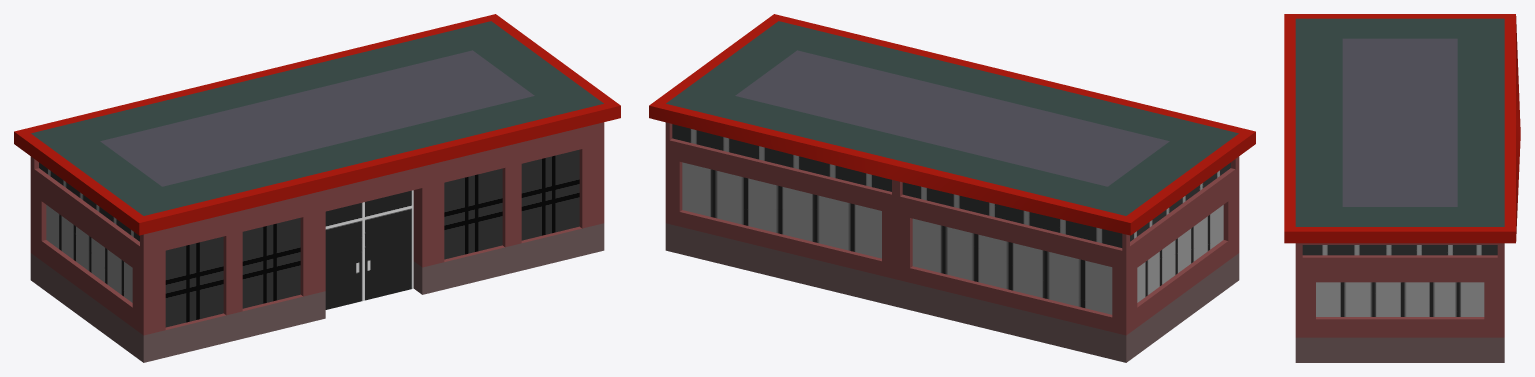
The model's file is building29a.FBX.
3 renders of one model, left to right at view 1: azimuth 30°, elevation 25°; view 2: azimuth 150°, elevation 25°; view 3: azimuth 270°, elevation 25°, orthographic. The views are drawn at different scales.
Parts seen in each view (by area): view 1: building29a; view 2: building29a; view 3: building29a.
Boxes of the visible parts, <box> form: building29a: <box>14,14,620,362</box>; building29a: <box>649,14,1255,362</box>; building29a: <box>1284,14,1520,362</box>.
Bounding box in the file's own units: 34.38 × 10.02 × 15.79.
